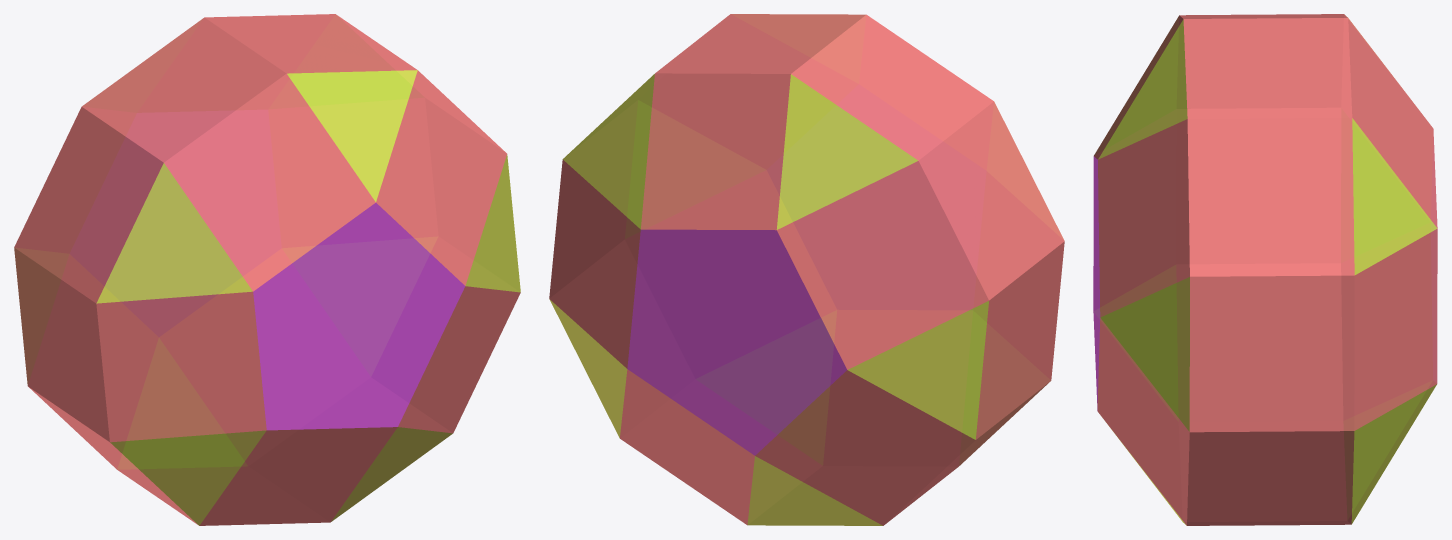
Rendered from j39_elongated_pentagonal_gyrobicupola.obj.
3 views of the same model, side by side, from view 1: azimuth 30°, elevation 25°; view 2: azimuth 150°, elevation 25°; view 3: azimuth 270°, elevation 25° (orthographic). The views are drawn at different scales.
Bounding box in the file's own units: 2.01 × 2.04 × 1.32.
